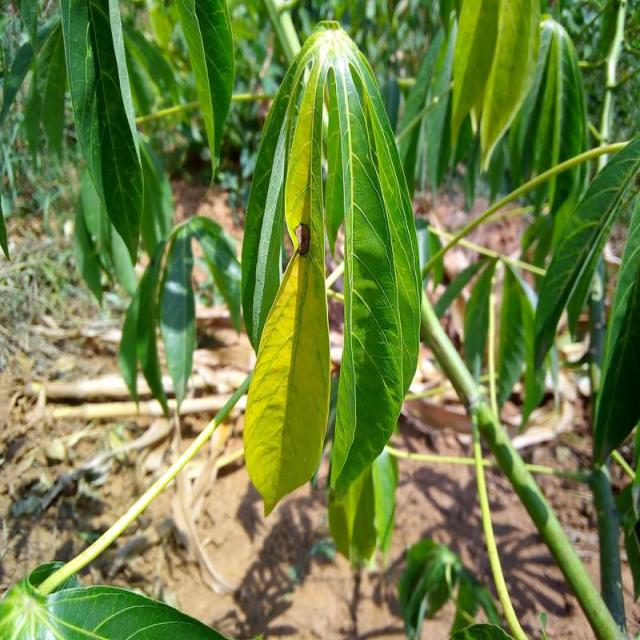cassava leaf: (240, 21, 423, 516), (59, 0, 146, 266)
